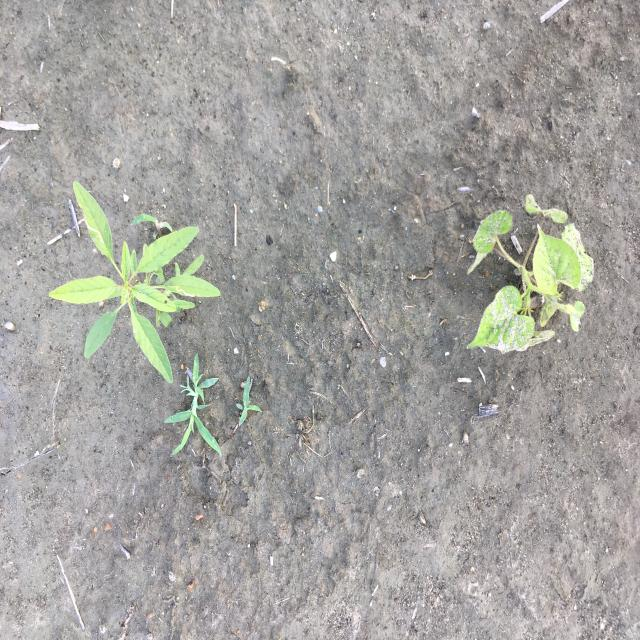Goosegrass: (163, 351, 225, 461)
MorningGlory: (465, 192, 596, 356)
Waterhemp: (48, 179, 222, 386)
